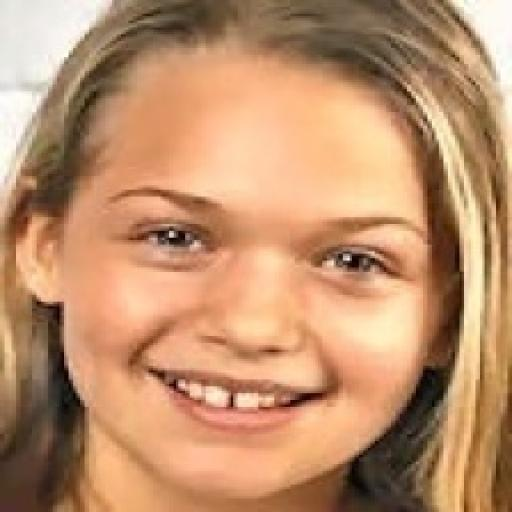Non-Autism: (17, 8, 436, 512)
